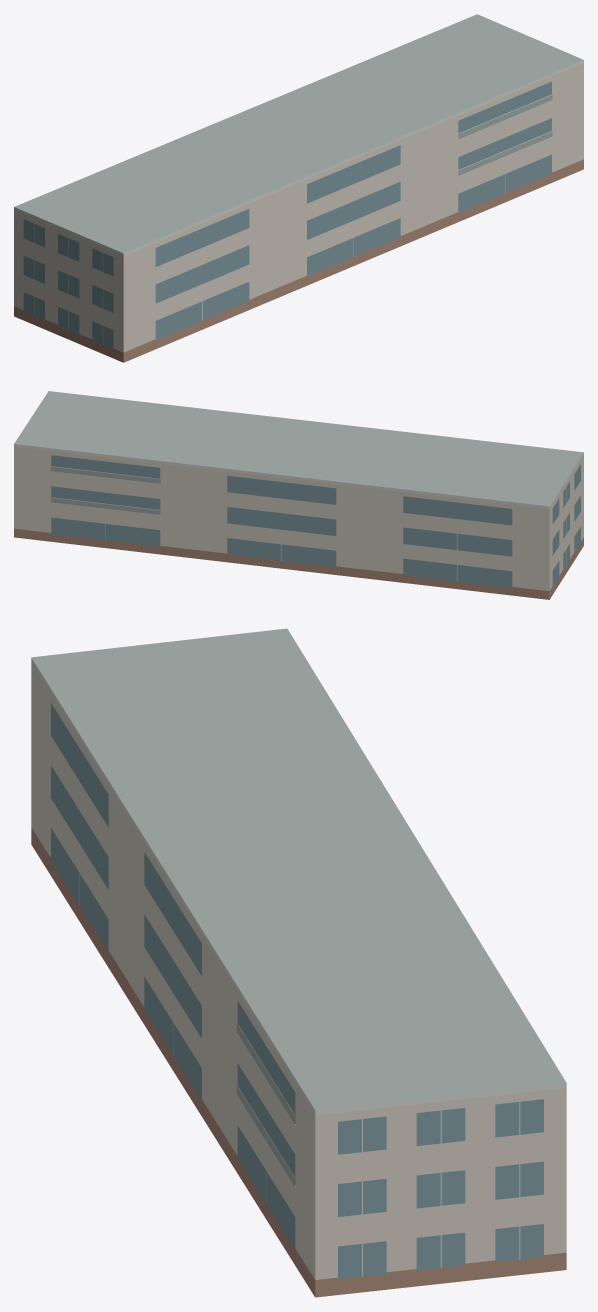
The model's file is survey-upis-32466689.glb.
3 renders of one model, top to bottom at view 1: azimuth 30°, elevation 25°; view 2: azimuth 150°, elevation 25°; view 3: azimuth 270°, elevation 25°, orthographic. The views are drawn at different scales.
Parts seen in each view (by area): view 1: survey-upis-32466689.tmp; view 2: survey-upis-32466689.tmp; view 3: survey-upis-32466689.tmp.
Boxes of the visible parts, left/top/right/bottom form: survey-upis-32466689.tmp: left=14, top=14, right=583, bottom=362; survey-upis-32466689.tmp: left=14, top=391, right=583, bottom=599; survey-upis-32466689.tmp: left=31, top=628, right=566, bottom=1297.
Bounding box in the file's own units: 50.58 × 9.15 × 23.75.
